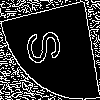S: (24, 24, 70, 68)
